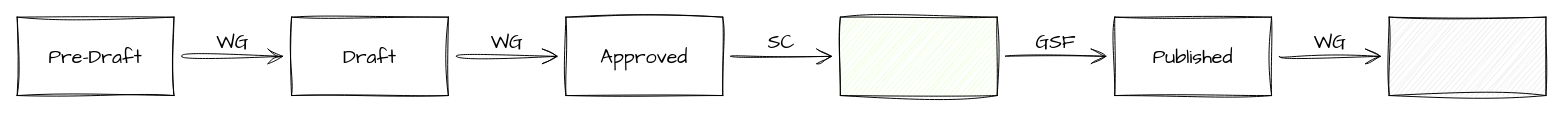
Some shapes in this 1563 by 113 pixel diagram are drawn without their labels. The centre of each missing label's shape, as x and y in pixels:
Historic: the point at 1467,56
Ratified: the point at 918,56
